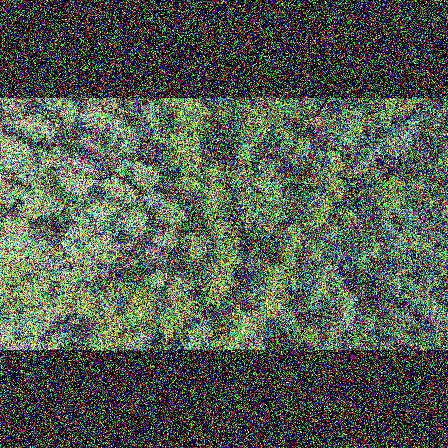Dead: (78, 136, 118, 160), (60, 153, 101, 175), (131, 314, 157, 345), (31, 253, 66, 273), (245, 248, 267, 277), (54, 310, 83, 332), (107, 237, 141, 255), (144, 237, 164, 265), (140, 143, 165, 161), (121, 98, 143, 118)
